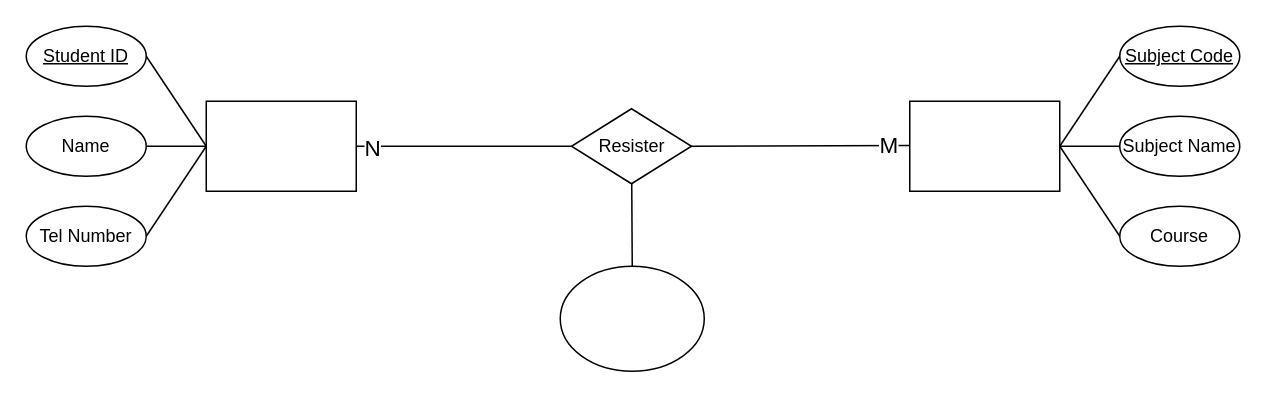
The diagram is 1266 pixels wide and 398 high, and some of its shapes have lost their labels. Here are the shapes that lost their labels. From the top down, the centre of each, then its label:
point 280,145: STUDENT
point 984,145: SUBJECT
point 631,318: SCORE
